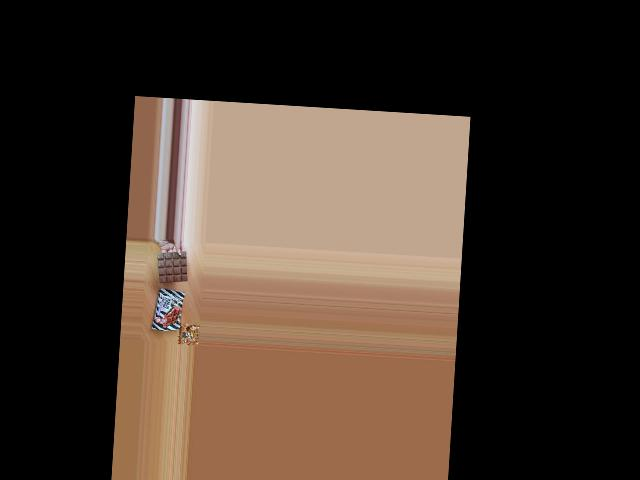chocolate: (152, 286, 183, 333)
